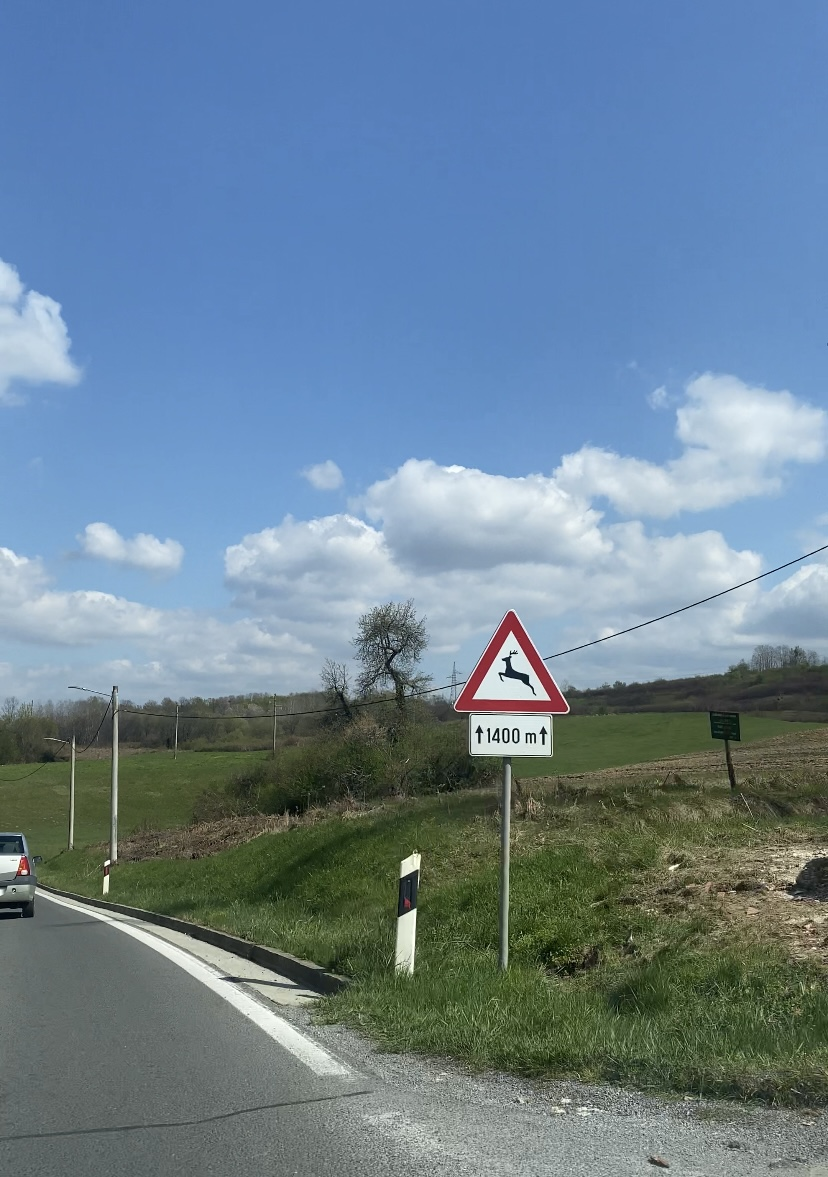Divljač na cesti: (453, 609, 569, 713)
